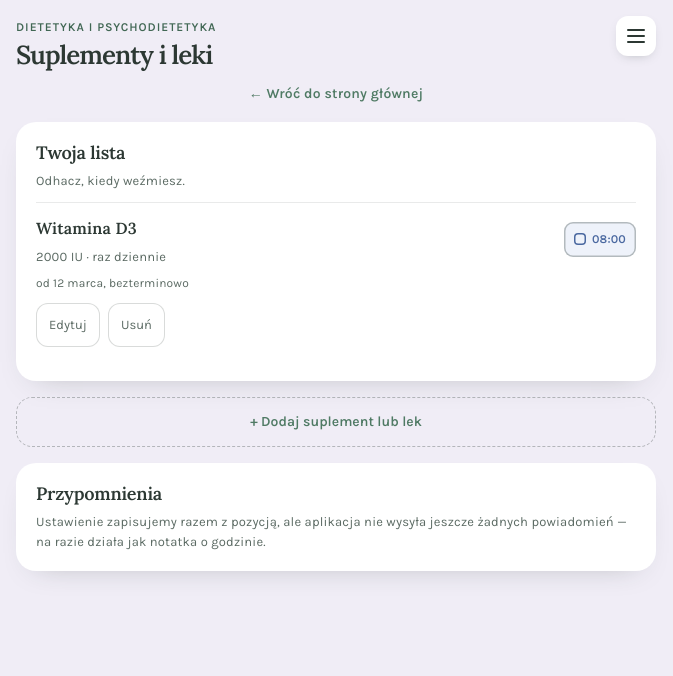
Test: deleting one › can be backed out of
The image size is (673, 676).
Click the button "Usuń". click: (136, 325)
box: [108,303,165,347]
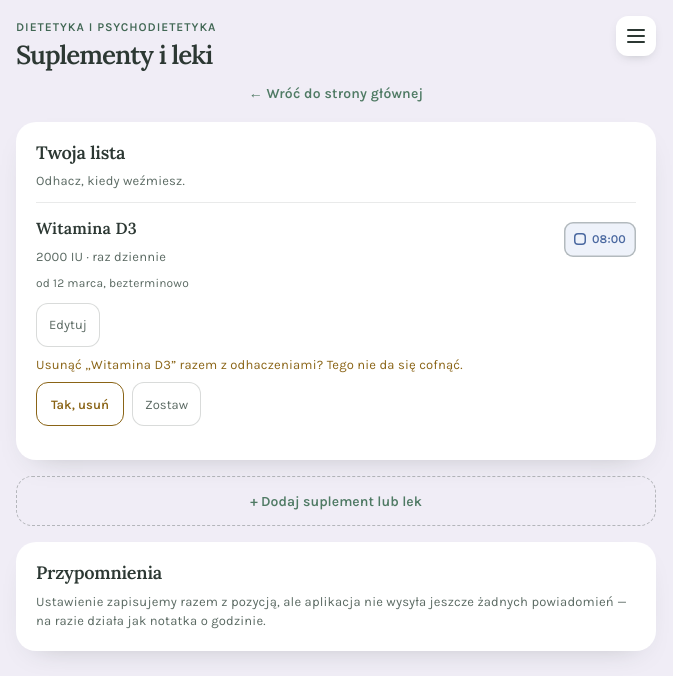
Click the button "Zostaw". click: (167, 404)
box: [132,382,201,426]
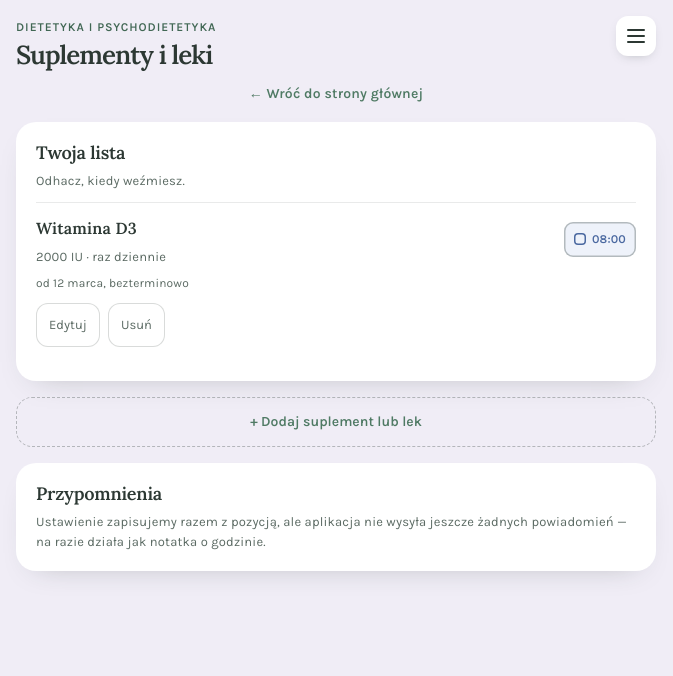
Result: the text "razem z odhaczeniami" is gone
